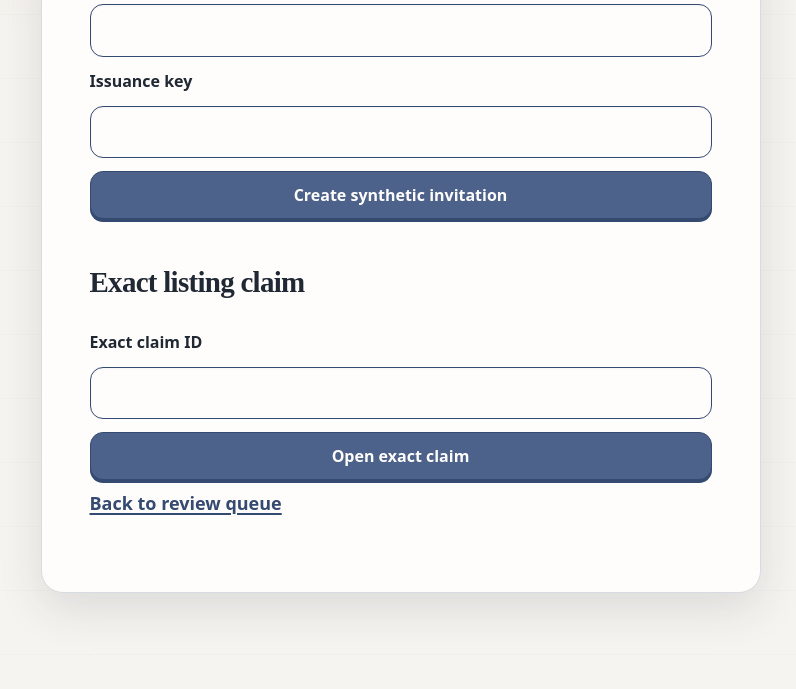
Test: Partner Administrator screen › loads one exact claim and submits a version-bound decision
(page scrolled)
In the field labelled "Exact claim ID": {"x": 400, "y": 393} [90, 367, 712, 419], type "11111111-1111-4111-8111-111111111111"
Click the button "Open exact claim": {"x": 400, "y": 456} [90, 432, 712, 480]
(page scrolled)
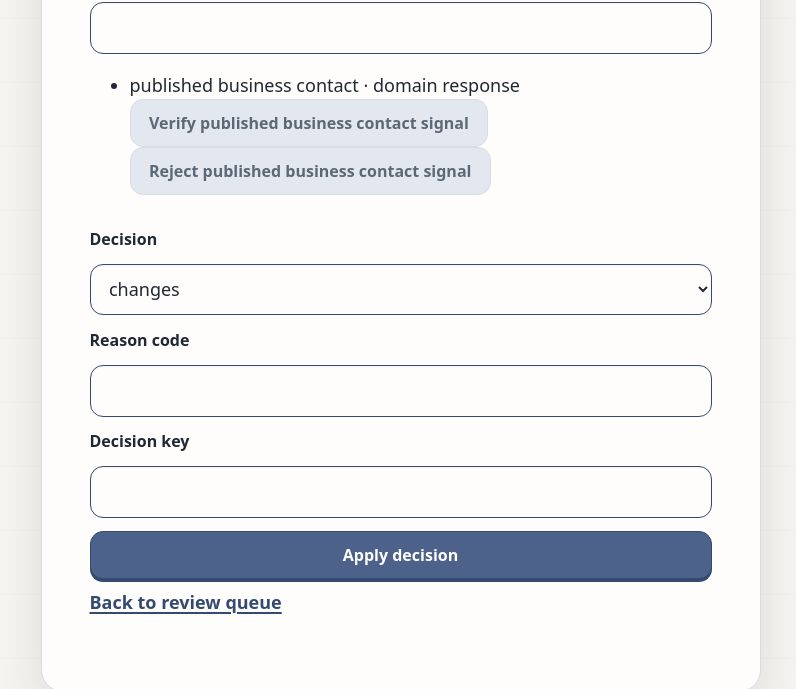
Select "approve" in the dropdown labelled "Decision": {"x": 400, "y": 289} [90, 264, 712, 315]
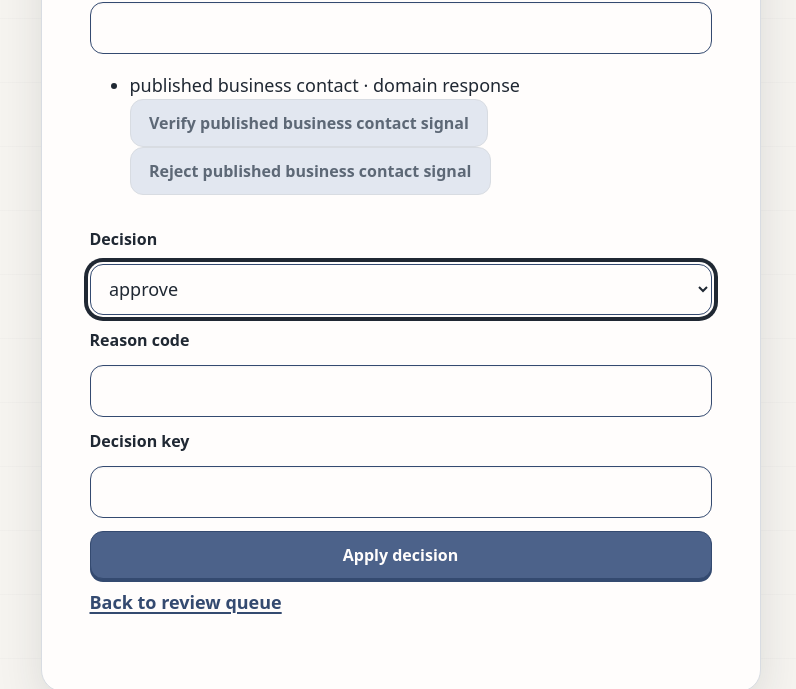
In the field labelled "Reason code": {"x": 400, "y": 390} [90, 364, 712, 416], type "verified_authority"
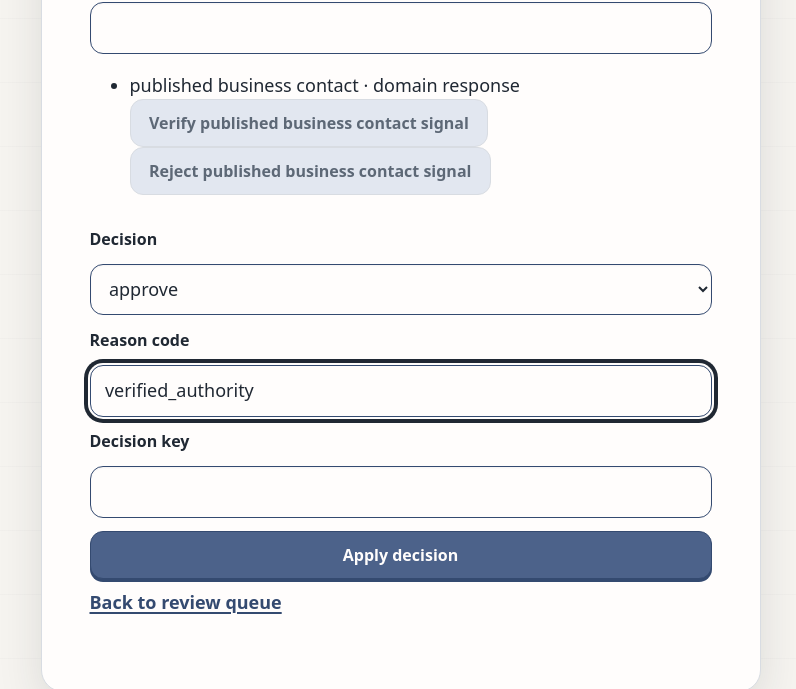
In the field labelled "Decision key": {"x": 400, "y": 492} [90, 466, 712, 518], type "approve-claim-v3"
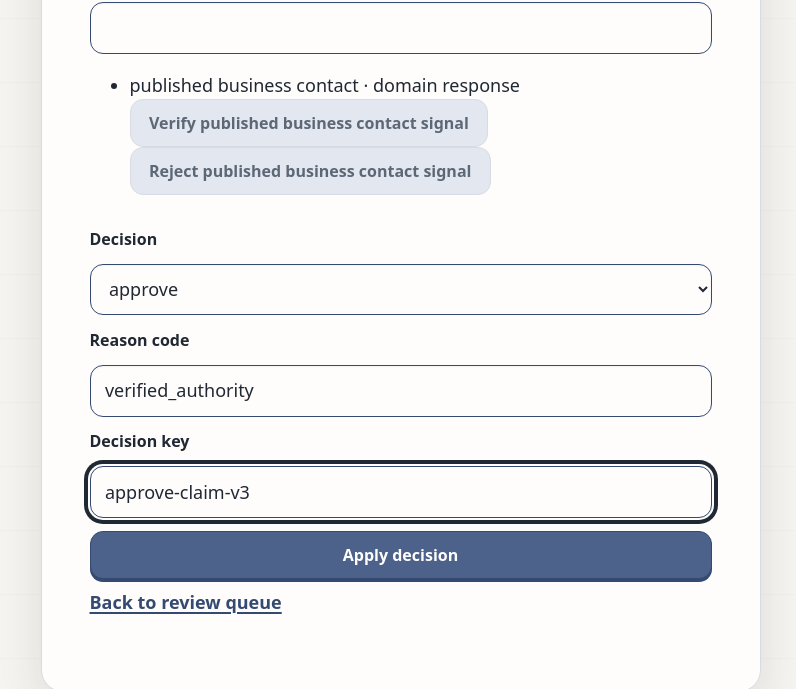
Click the button "Apply decision": {"x": 400, "y": 555} [90, 531, 712, 579]
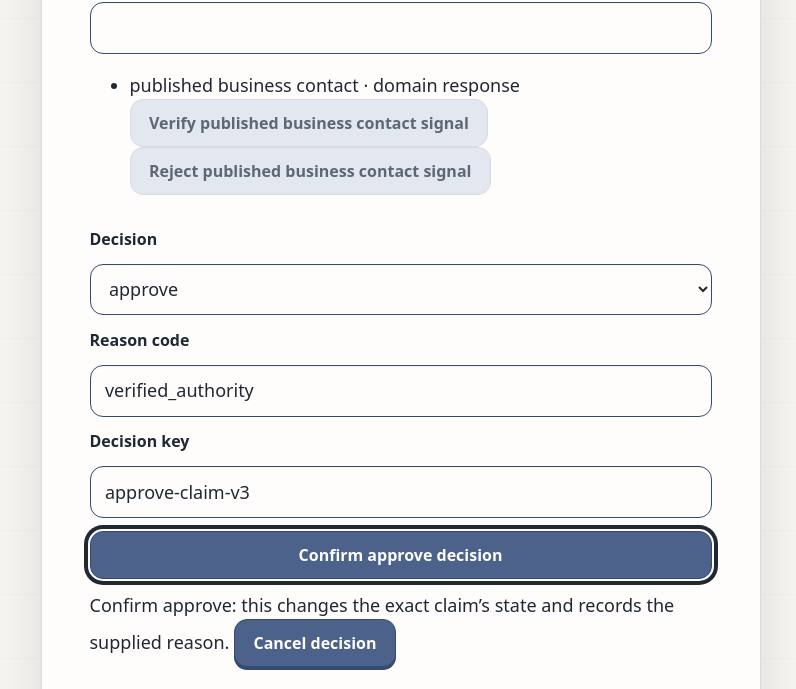
Click the button "Confirm approve decision": {"x": 400, "y": 555} [90, 531, 712, 579]
(page scrolled)
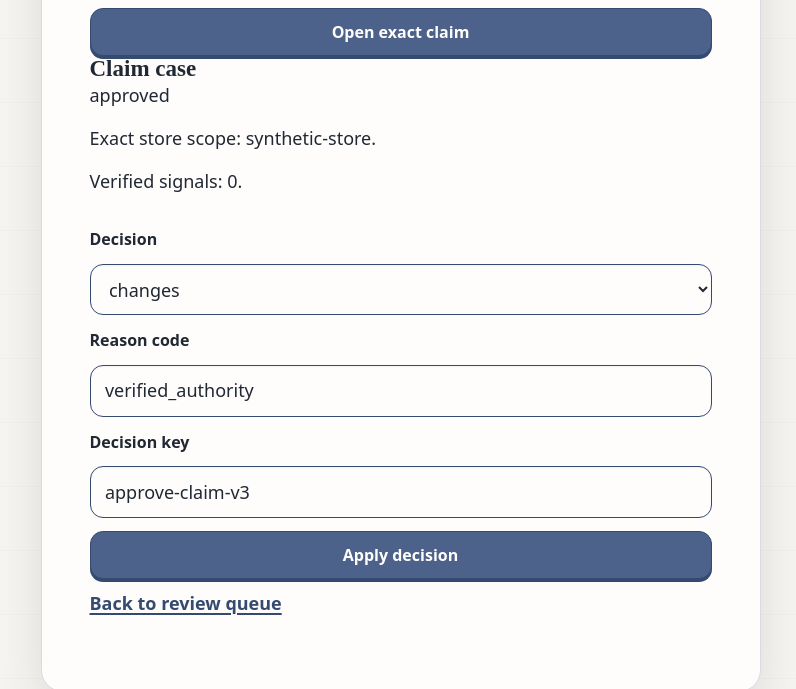
Result: the text "approved" is shown at [90, 83, 170, 107]
